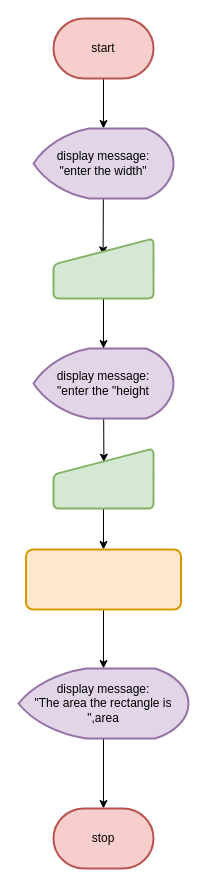
This 206x886 diagram has some shape labels left out. The centre of each missing label's shape, as x and y in pixels:
"Process calculate: area = width*height" belongs at pixel 103 579.
"read input height" belongs at pixel 103 478.
"read input width" belongs at pixel 103 268.
